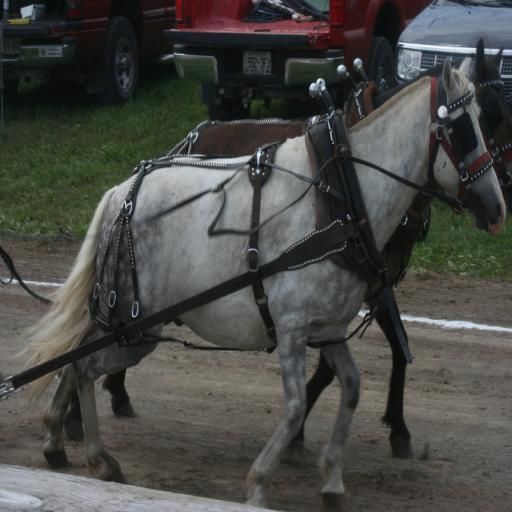horse: (10, 56, 506, 510), (64, 36, 512, 466)
